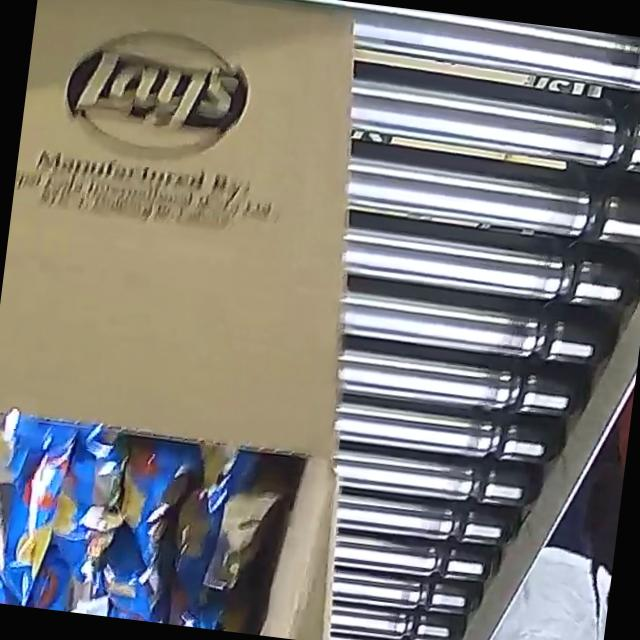paprika: (0, 408, 303, 637)
